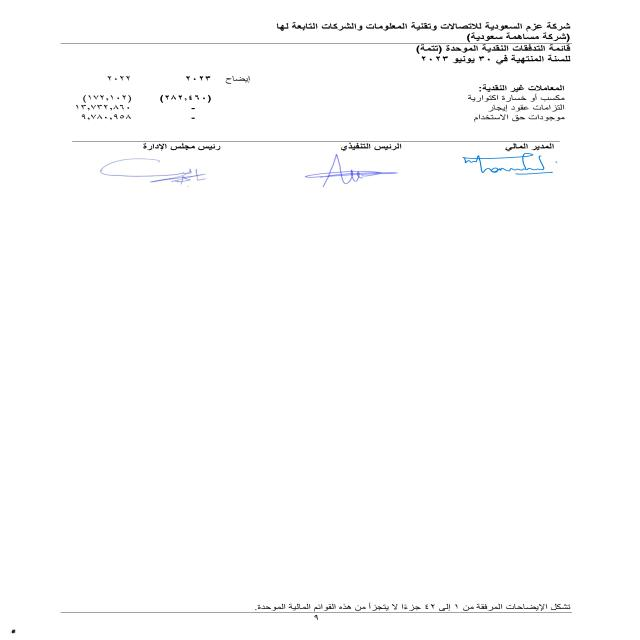financial_sheets: (407, 42, 582, 54)
table: (47, 64, 294, 134)
